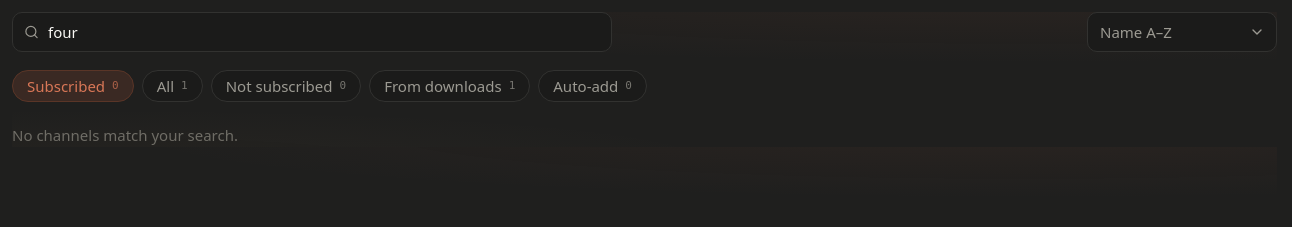
Channels › chip counts › narrows every count to the search query
The image size is (1292, 227).
Click the button "All 1". click: (172, 86)
box: [142,70,203,102]
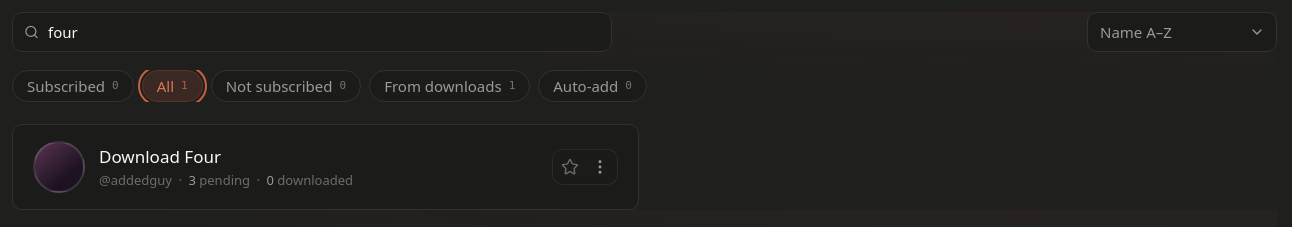
Expected: the heading "Download Four" is shown, [99,144,221,169]
